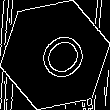O_SW: (23, 22, 87, 88)
